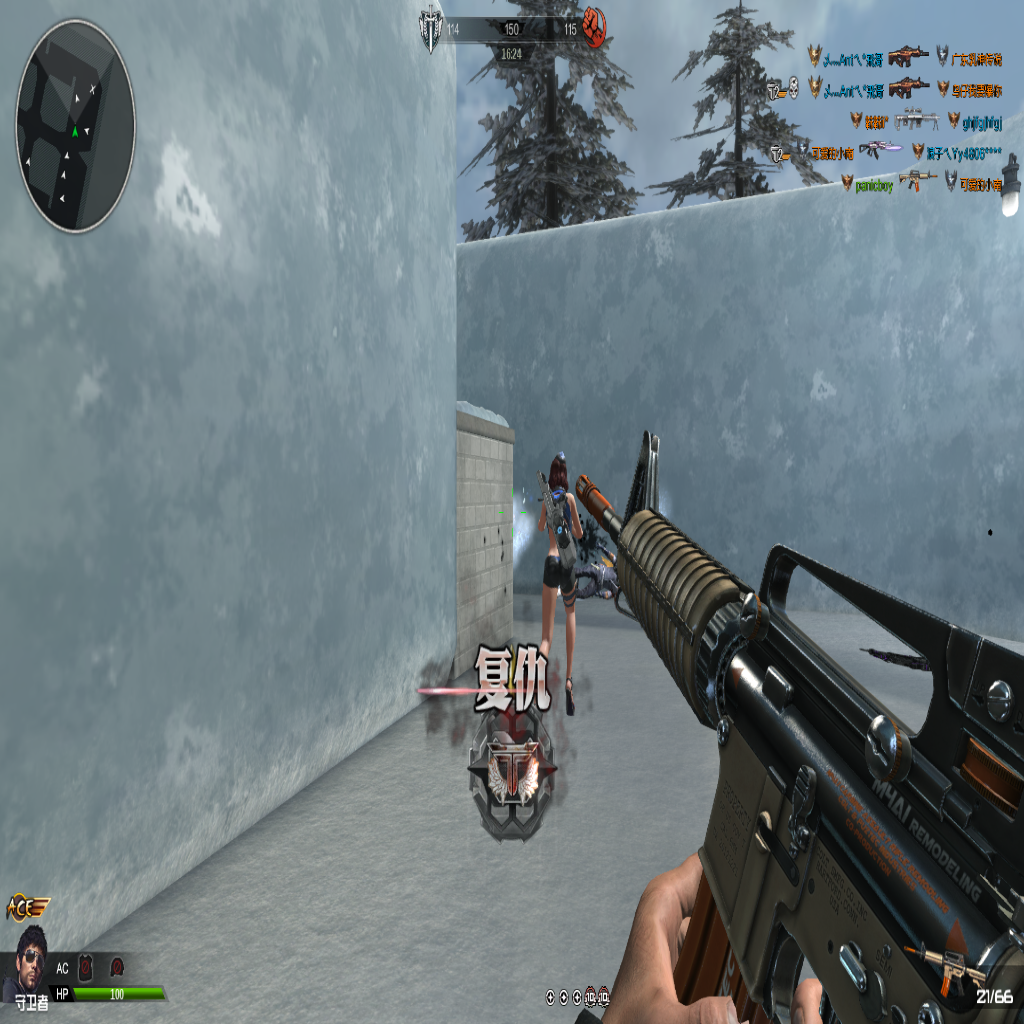ct: (534, 453, 579, 717)
